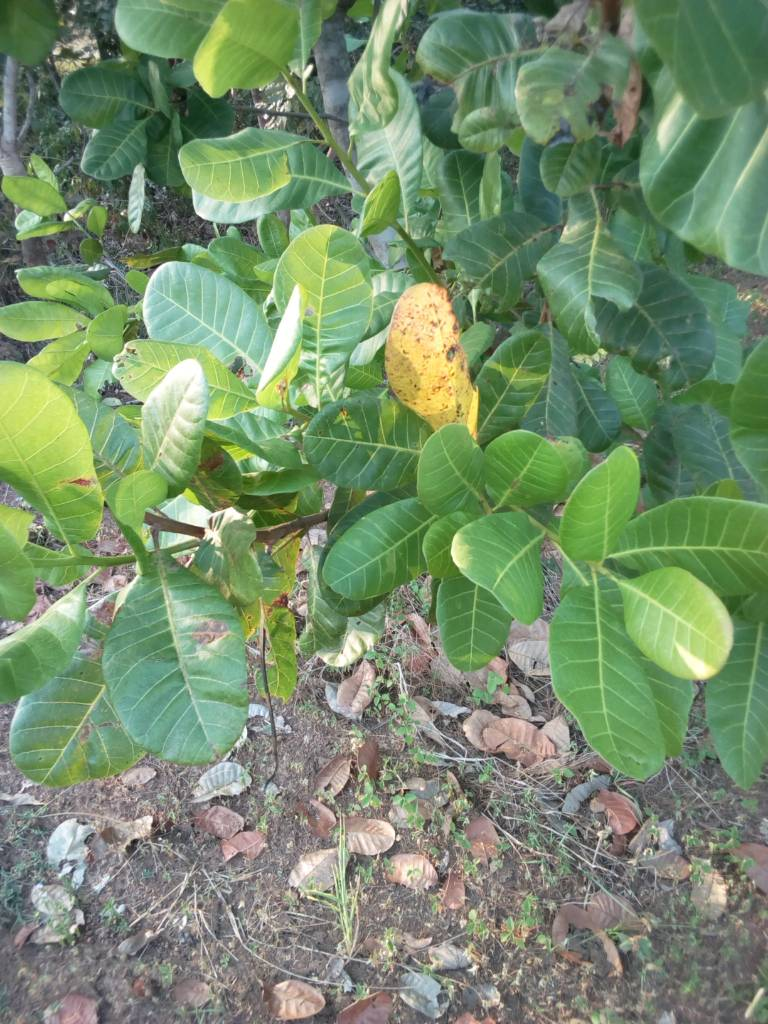Bactériose: (113, 555, 244, 753), (515, 16, 640, 149), (393, 283, 480, 432)
